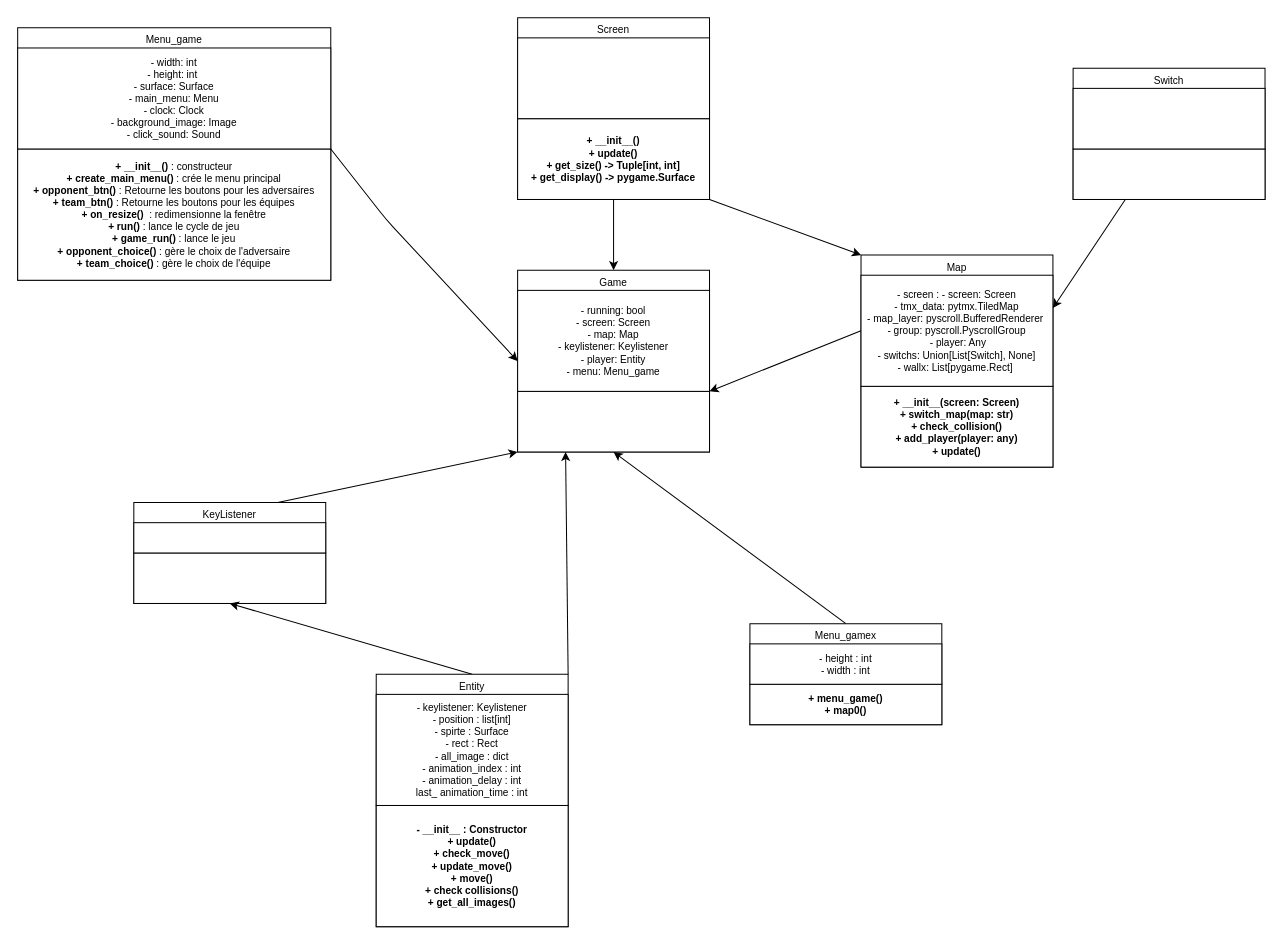
Some shapes in this 1283 by 944 pixel diagram are drawn without their labels. The centre of each missing label's shape, as x and y in pixels:
+ __init__() + handle_input() + run(): point 613,421
+ __init__(type, name, hitbox, port) + check_collision( temp_hitbox): point 1168,173
+ add_keys() + key_pressed() + clear(): point 229,577
- display : pygame.Surface - clock : pygame.time.Clock - framerate : int: point 613,78
- hitbox : pygame.Rect - port : int - name : str - type : str: point 1168,118
- keys: list[]: point 229,537
